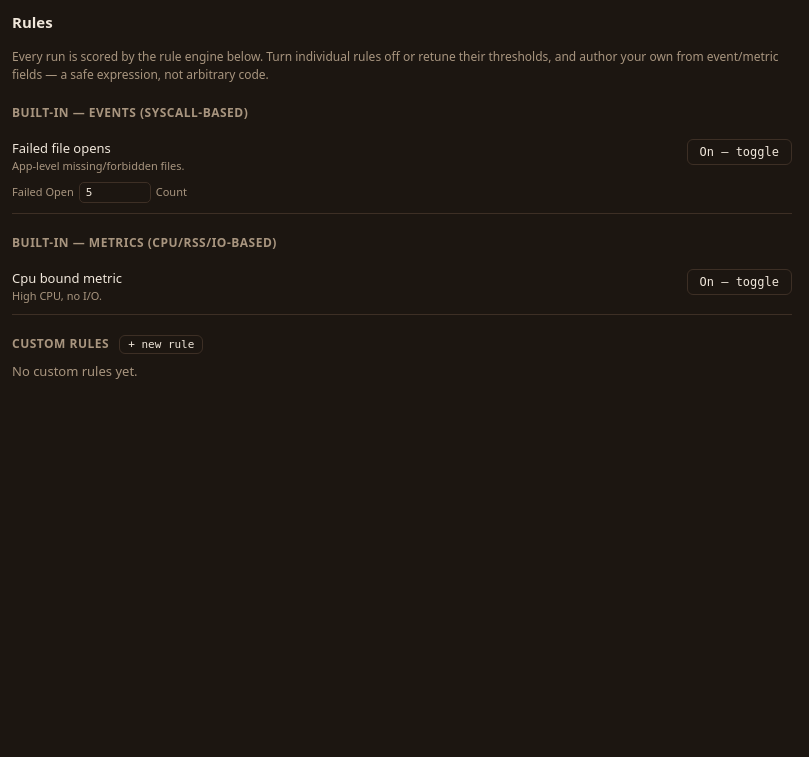
Scenario: RulesSettings › creating a valid custom rule POSTs and adds it to the list
Expected: the text "No custom rules yet." is shown, 12,362 -> 138,380
Click the button "+ new rule" at (161,345), box 119,335 -> 203,354
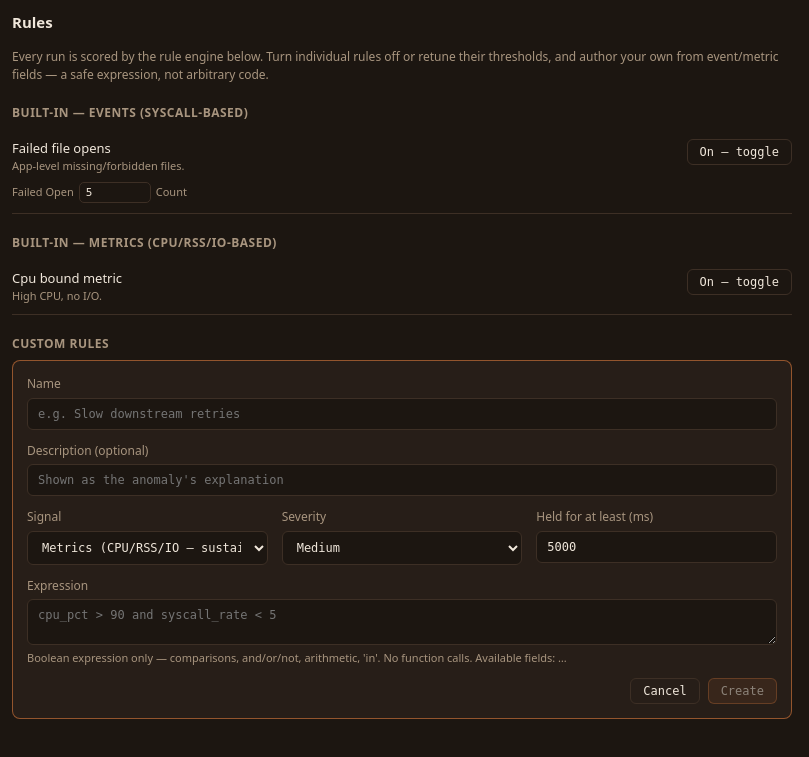
Type "My rule" into the field with placeholder "e.g. Slow downstream retries" at (402,414), box 27,398 -> 777,430
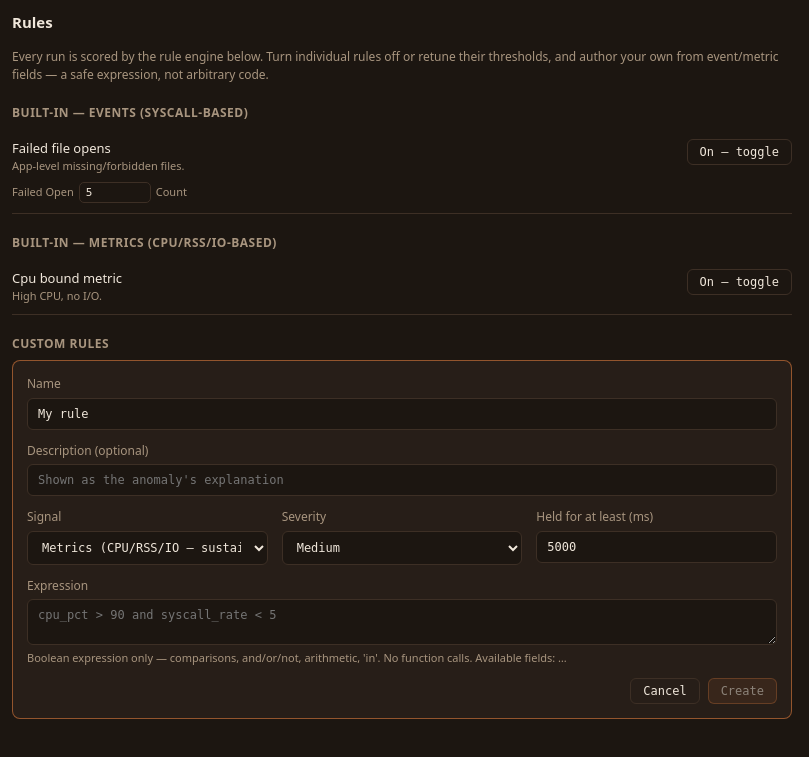
Type "cpu_pct > 90" into the text box with placeholder "cpu_pct > 90 and syscall_rate < 5" at (402,622), box 27,599 -> 777,645
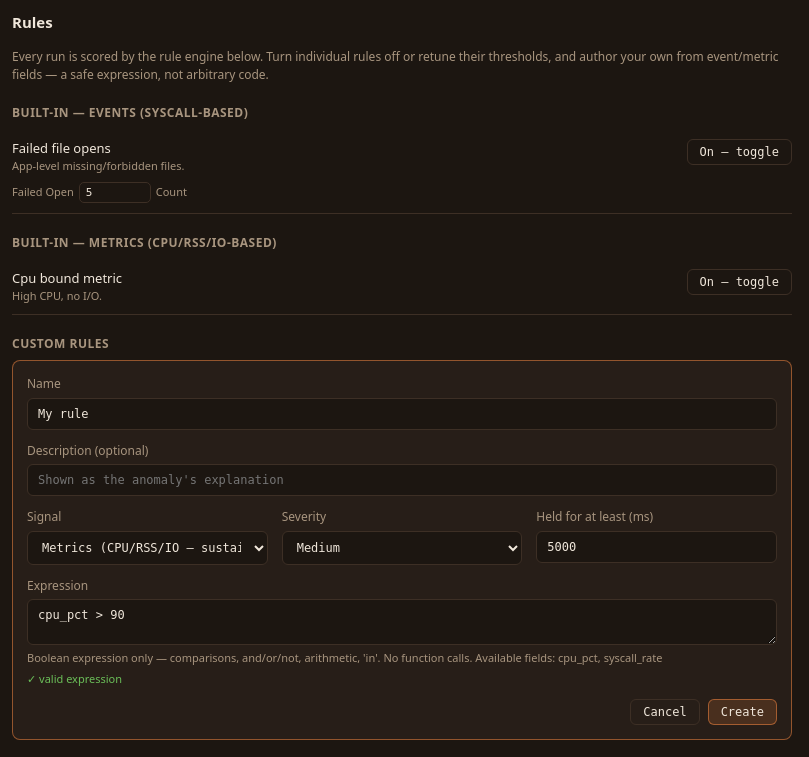
Now the text "✓ valid expression" is shown, box 27,671 -> 122,686
Click the button "Create" at (742,712), box 708,699 -> 777,725
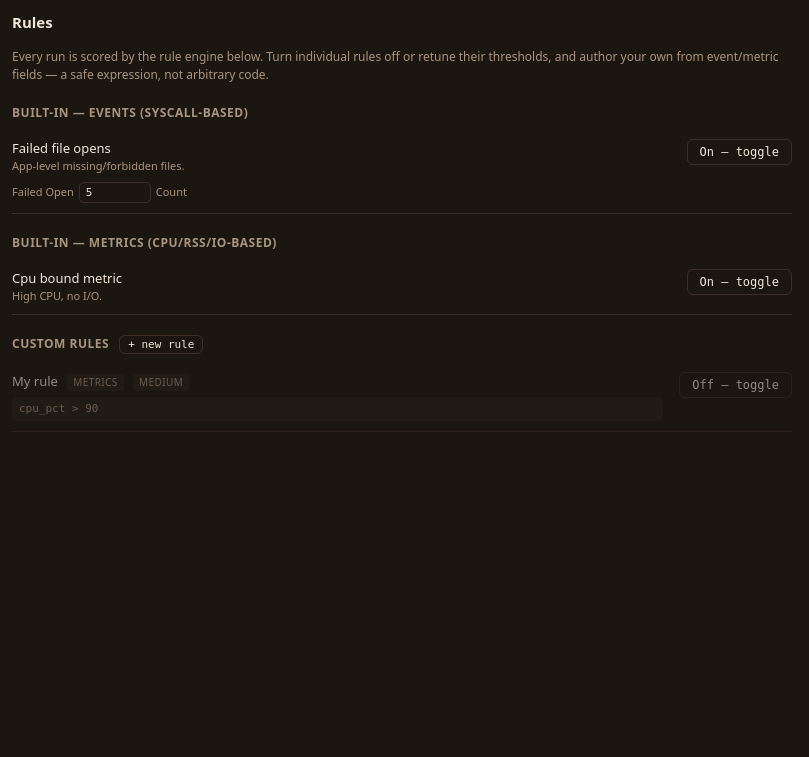
Now the text "My rule" is shown, box 12,372 -> 58,390
